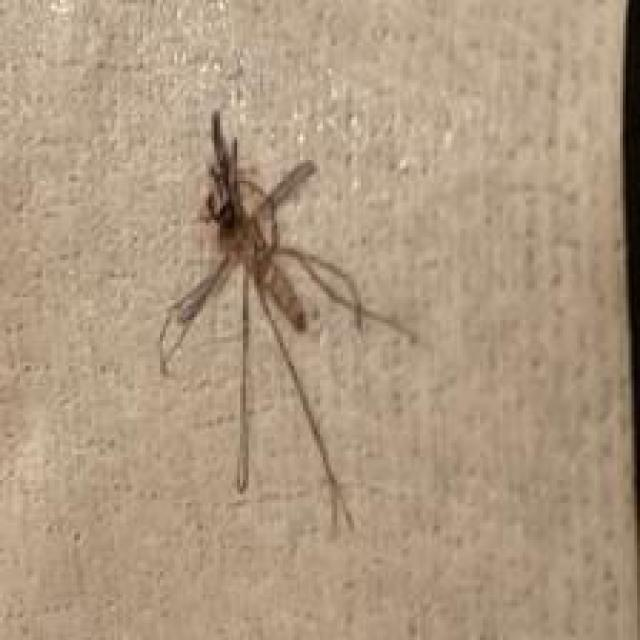Culex: (156, 109, 421, 534)
